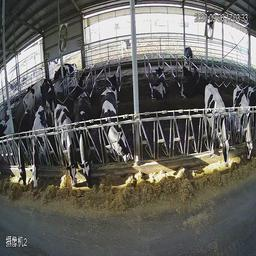cow: (99, 86, 138, 183), (49, 98, 80, 208), (203, 81, 233, 177), (73, 88, 96, 199), (232, 74, 253, 169), (11, 103, 33, 193), (31, 106, 50, 196), (145, 58, 169, 103), (23, 73, 57, 103), (174, 63, 200, 99), (182, 40, 198, 65)
